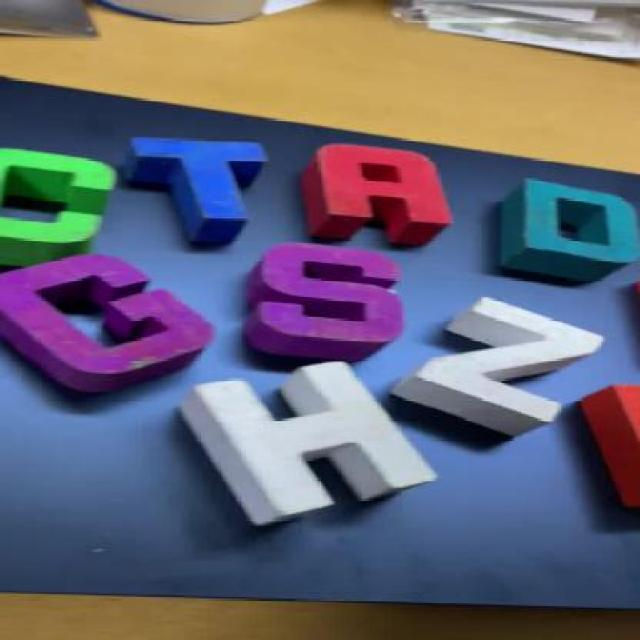A: (303, 143, 448, 242)
C: (5, 136, 119, 267)
D: (487, 178, 639, 290)
G: (0, 258, 218, 406)
H: (168, 358, 432, 536)
S: (222, 242, 415, 362)
T: (121, 129, 268, 245)
Z: (391, 295, 611, 440)
